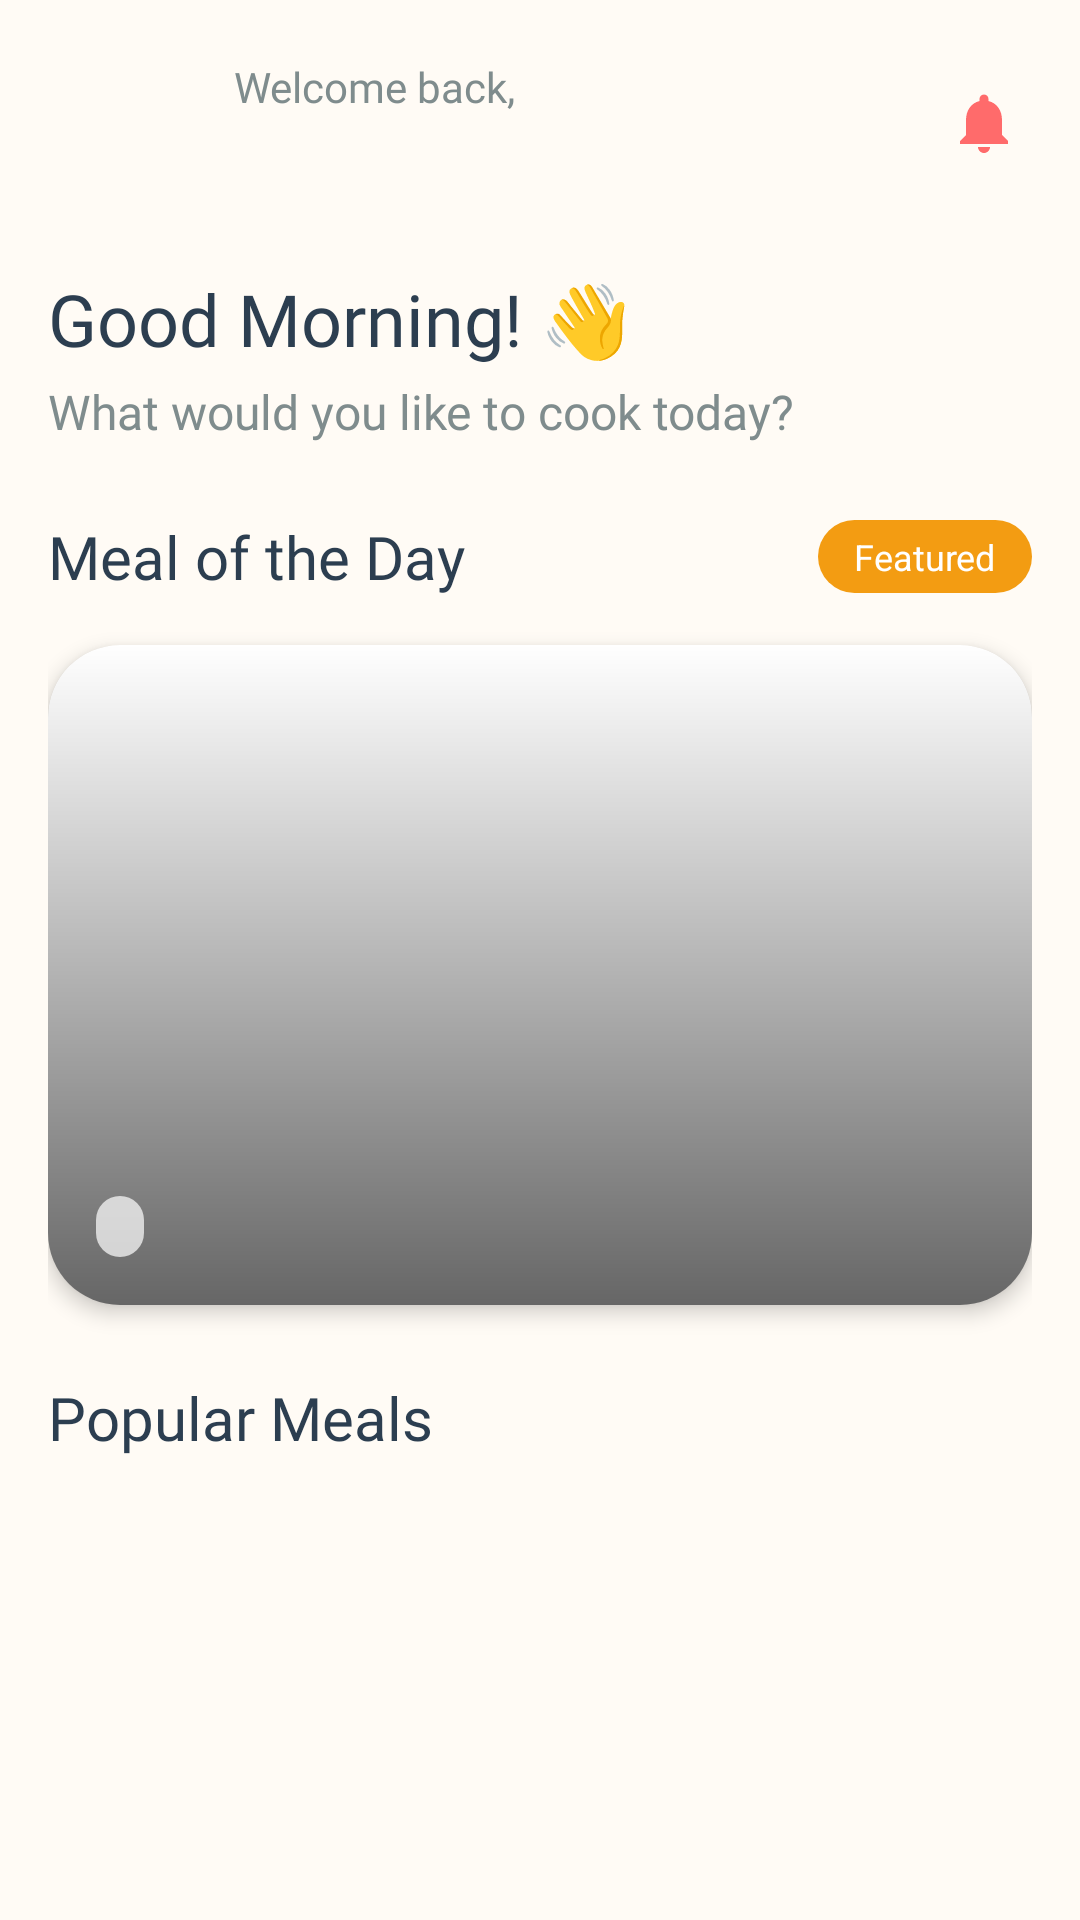

Screen size 1080px×1920px. Icon name, then its center in pixels as (x=x, y=y):
notification bell: (x=984, y=123)
